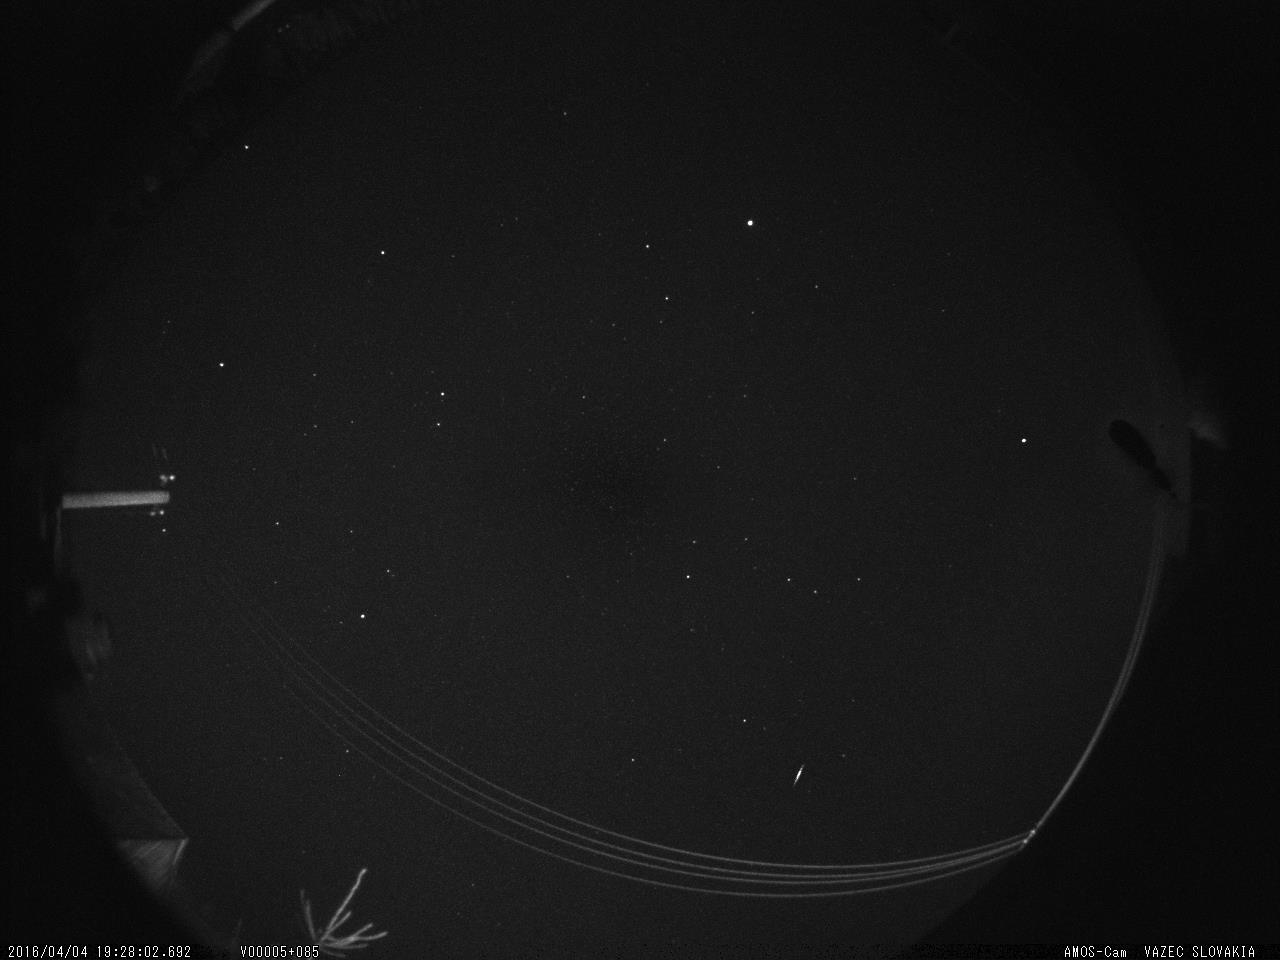meteor: (788, 751, 814, 796)
